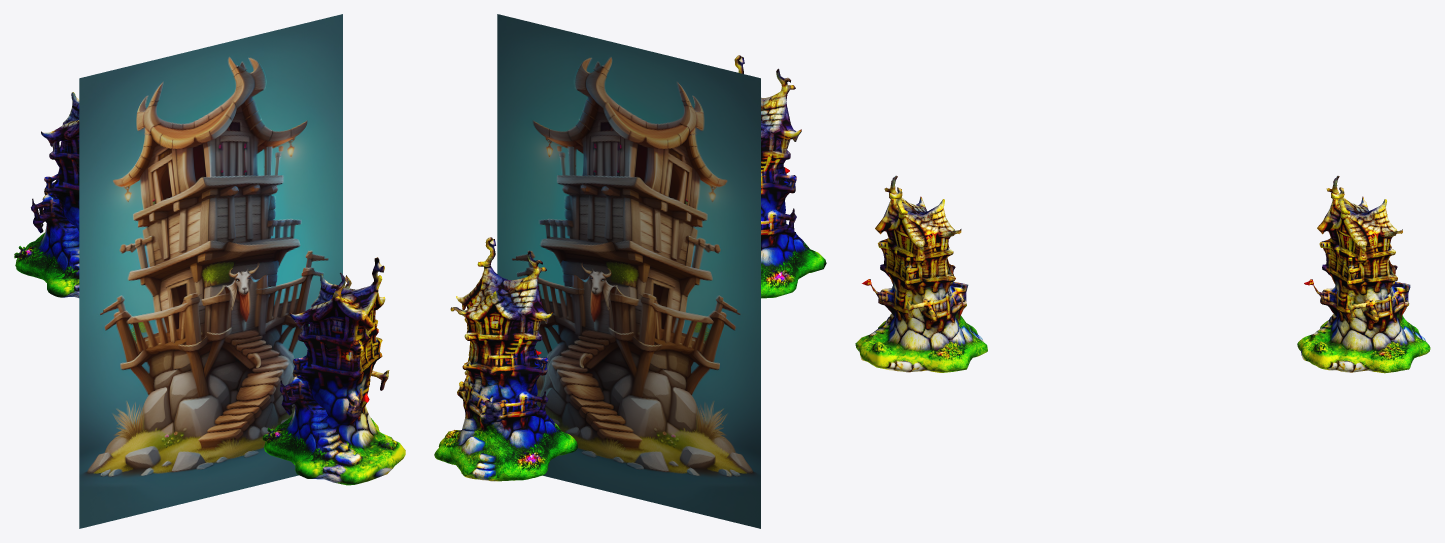
File: wooden_house_on_stilts_a_wooden_house_on_stil.glb
3 views of the same model, side by side, from view 1: azimuth 30°, elevation 25°; view 2: azimuth 150°, elevation 25°; view 3: azimuth 270°, elevation 25° (orthographic). The views are drawn at different scales.
Visible parts, largest first — view 1: web_upload_3, ProcessedMeshNode_LOD1_2, mesh.obj_0; view 2: web_upload_3, mesh.obj_0, ProcessedMeshNode_LOD1_2; view 3: ProcessedMeshNode_LOD1_2, mesh.obj_0.
Part boxes in pixels (<box>): web_upload_3: <box>79,14,342,528</box>; ProcessedMeshNode_LOD1_2: <box>262,257,405,485</box>; mesh.obj_0: <box>14,92,79,297</box>; web_upload_3: <box>497,14,760,528</box>; mesh.obj_0: <box>434,237,577,481</box>; ProcessedMeshNode_LOD1_2: <box>734,55,826,298</box>; ProcessedMeshNode_LOD1_2: <box>855,175,987,372</box>; mesh.obj_0: <box>1297,176,1430,373</box>.
Size of the model in its own units: 1.22 by 2 by 2.6.
3 materials, 3 textured.
